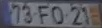1: (81, 5, 90, 24)
2: (69, 5, 82, 25)
3: (21, 3, 33, 25)
7: (11, 4, 21, 24)
F: (36, 4, 49, 25)
O: (50, 4, 65, 25)
